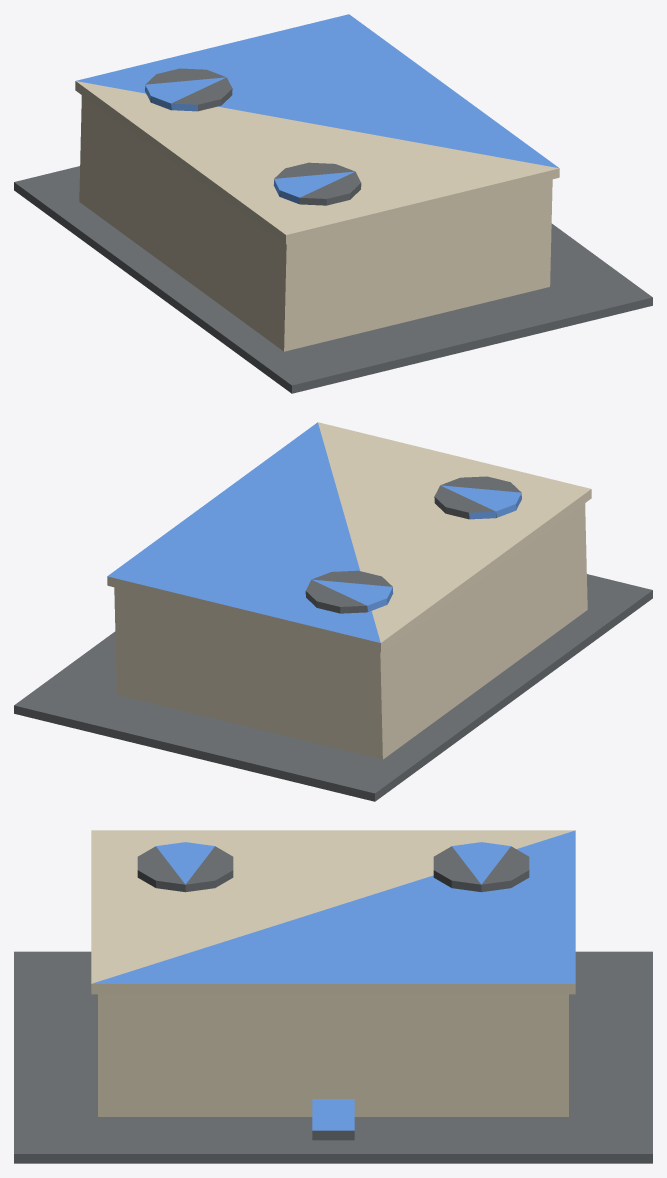
Rendered from meridian_refinery_damaged.glb.
3 views of the same model, one above another, from view 1: azimuth 30°, elevation 25°; view 2: azimuth 150°, elevation 25°; view 3: azimuth 270°, elevation 25° (orthographic). The views are drawn at different scales.
Parts seen in each view (by area): view 1: hull; view 2: hull; view 3: hull, belt.
Boxes of the visible parts, x1,y1,x2,y2 form: hull: (14,14,652,393); hull: (14,422,652,801); hull: (14,830,652,1163); belt: (312,1099,354,1140).
Size of the model in its own units: 11.4 by 4.04 by 15.2.
